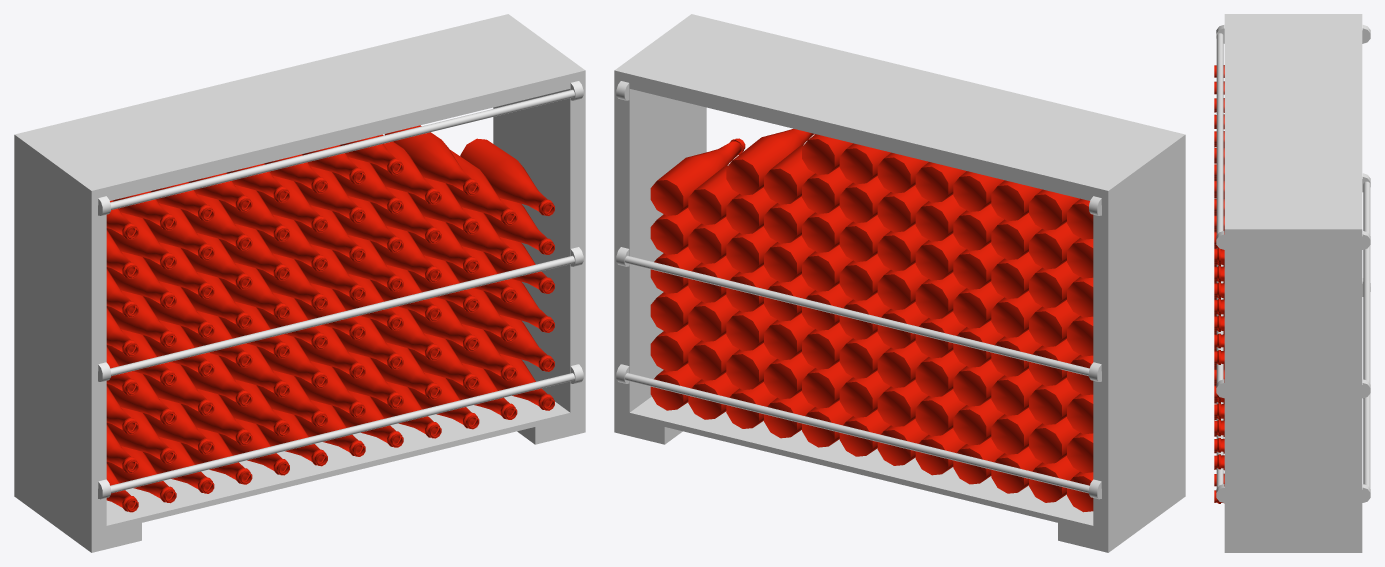
File: 3D_Pallette_Hole_01.fbx
The picture shows the model from 3 angles, left to right: view 1: azimuth 30°, elevation 25°; view 2: azimuth 150°, elevation 25°; view 3: azimuth 270°, elevation 25°; orthographic projection. The views are drawn at different scales.
Parts seen in each view (by area): view 1: Pallette; view 2: Pallette; view 3: Pallette.
Part boxes in pixels (x1,y1,x2,y2): Pallette: (14, 14, 585, 552); Pallette: (614, 14, 1185, 552); Pallette: (1214, 14, 1370, 552).
Bounding box in the file's own units: 1.48 × 1.04 × 0.4539.
